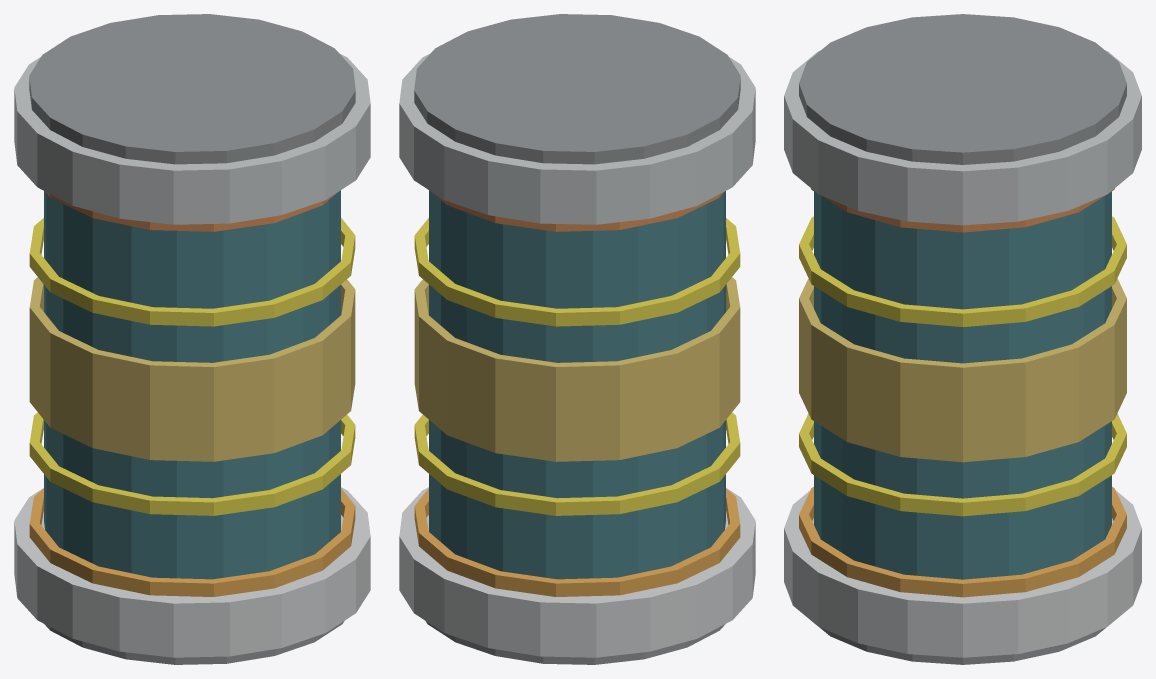
The picture shows the model from 3 angles, left to right: view 1: azimuth 30°, elevation 25°; view 2: azimuth 150°, elevation 25°; view 3: azimuth 270°, elevation 25°; orthographic projection.
Parts seen in each view (by area): view 1: Mesh_Mesh_head_geo.001_lambert2SG.001; view 2: Mesh_Mesh_head_geo.001_lambert2SG.001; view 3: Mesh_Mesh_head_geo.001_lambert2SG.001.
Boxes of the visible parts, left/top/right/bottom form: Mesh_Mesh_head_geo.001_lambert2SG.001: left=14, top=14, right=370, bottom=664; Mesh_Mesh_head_geo.001_lambert2SG.001: left=399, top=14, right=755, bottom=664; Mesh_Mesh_head_geo.001_lambert2SG.001: left=784, top=14, right=1141, bottom=664.
Size of the model in its own units: 24 by 37.92 by 24.
